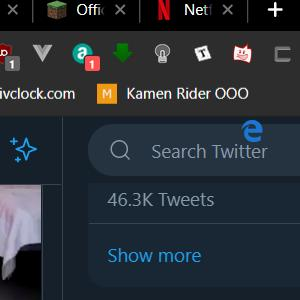edge: (241, 119, 263, 143)
